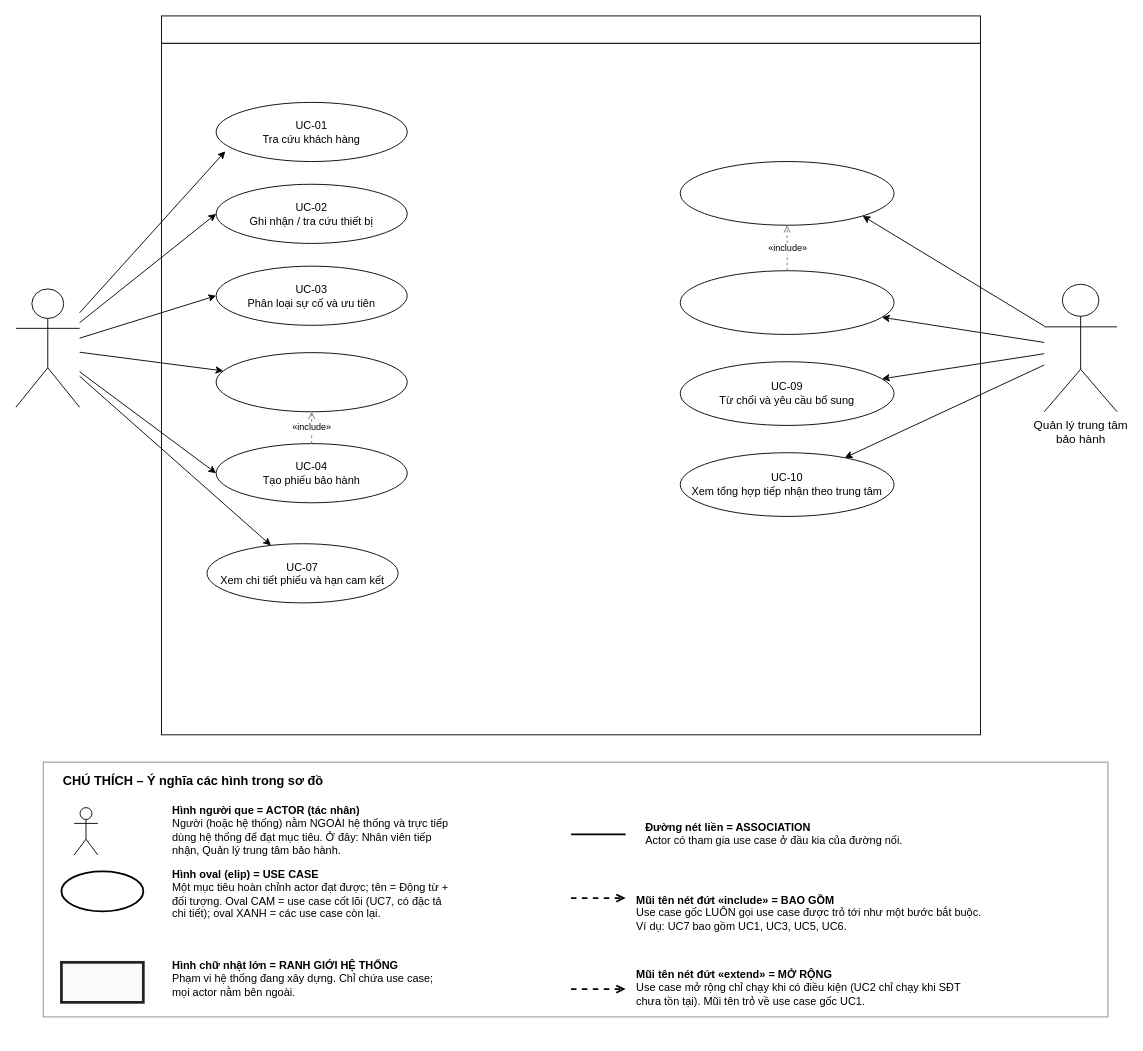
This 1143x1051 diagram has some shape labels left out. Each missing label, with the centre of its shape:
Hệ thống: L2 - Tiếp nhận và phân loại yêu cầu bảo hành: the point at 571,29
Nhân viên tiếp nhận: the point at 47,347
UC-05 Kiểm tra điều kiện bảo hành: the point at 311,382
UC-06 Phê duyệt bảo hành chưa xác minh: the point at 786,193
UC-08 Xem danh sách chờ xác minh: the point at 786,302
